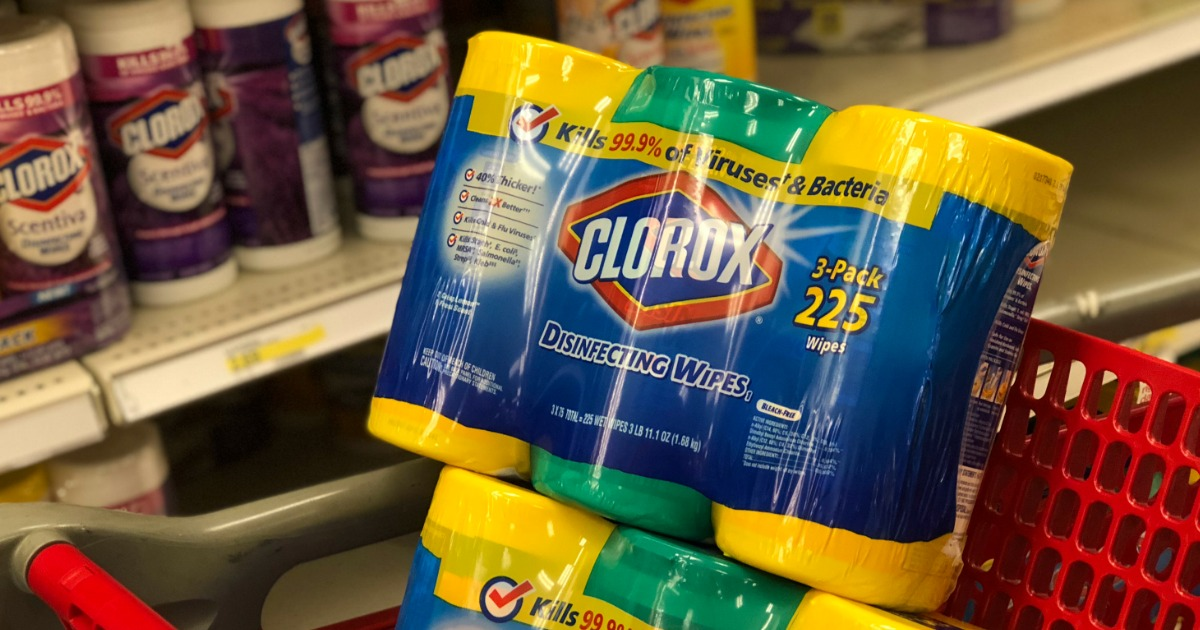Wipes: (708, 100, 1076, 616), (353, 21, 633, 481), (528, 54, 769, 542), (70, 2, 244, 313), (176, 4, 354, 283), (1, 2, 129, 353), (317, 1, 476, 253), (387, 457, 617, 630), (540, 519, 803, 630), (775, 590, 947, 630)
